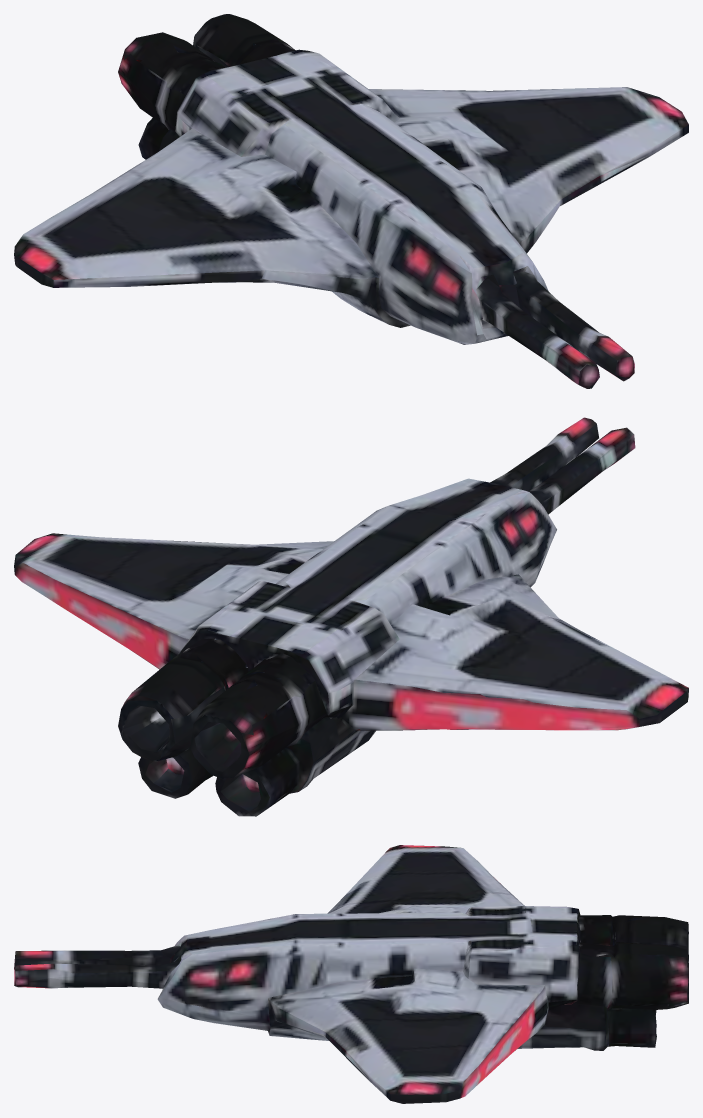
File: enemy-shooter-s10.glb
3 views of the same model, one above another, from view 1: azimuth 30°, elevation 25°; view 2: azimuth 150°, elevation 25°; view 3: azimuth 270°, elevation 25° (orthographic). The views are drawn at different scales.
Visible parts, largest first — view 1: 85775bae-5782-4804-8cdf-365772ca311a_texturing.obj; view 2: 85775bae-5782-4804-8cdf-365772ca311a_texturing.obj; view 3: 85775bae-5782-4804-8cdf-365772ca311a_texturing.obj.
Part boxes in pixels (<box>): 85775bae-5782-4804-8cdf-365772ca311a_texturing.obj: <box>14,14,688,388</box>; 85775bae-5782-4804-8cdf-365772ca311a_texturing.obj: <box>14,417,688,816</box>; 85775bae-5782-4804-8cdf-365772ca311a_texturing.obj: <box>14,845,688,1103</box>.
Bounding box in the file's own units: 1.75 × 0.3463 × 1.99.
Materials: 1 (1 with a texture image).
